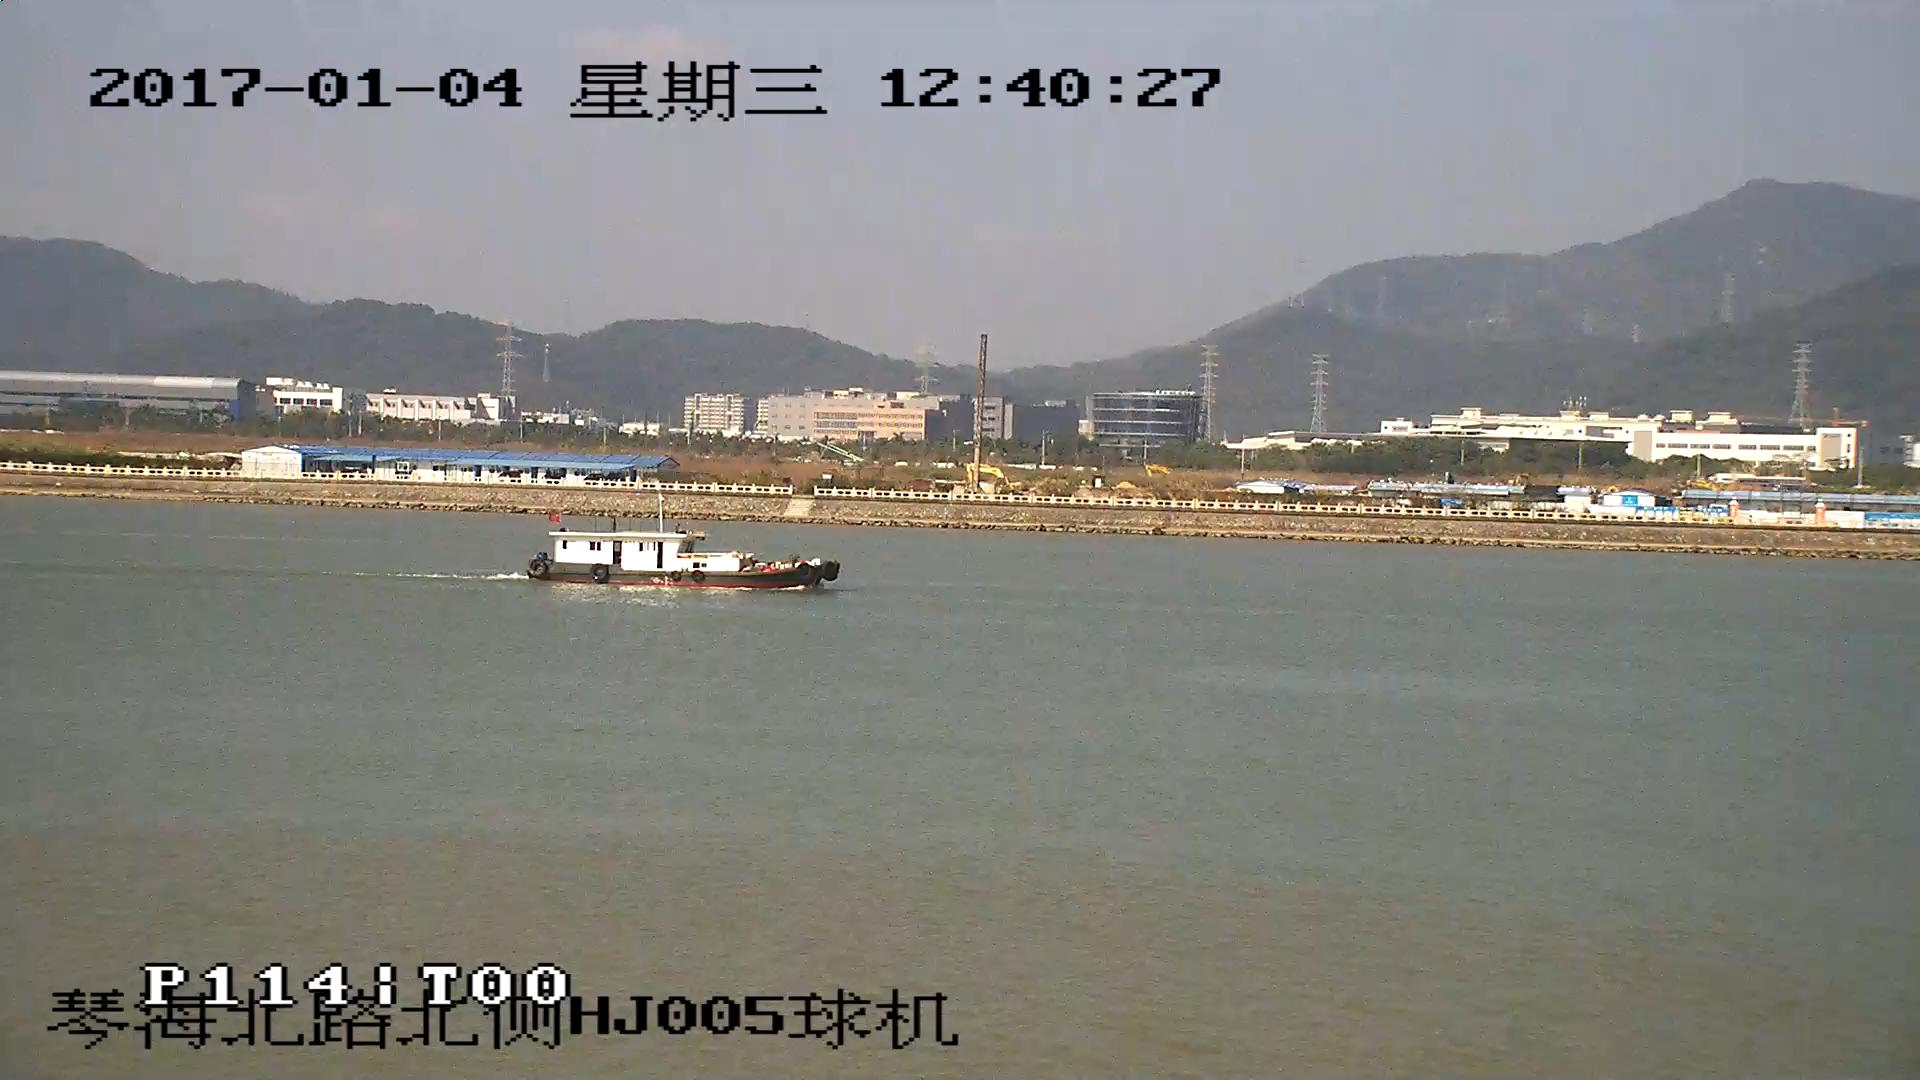fishing boat: (529, 499, 839, 588)
